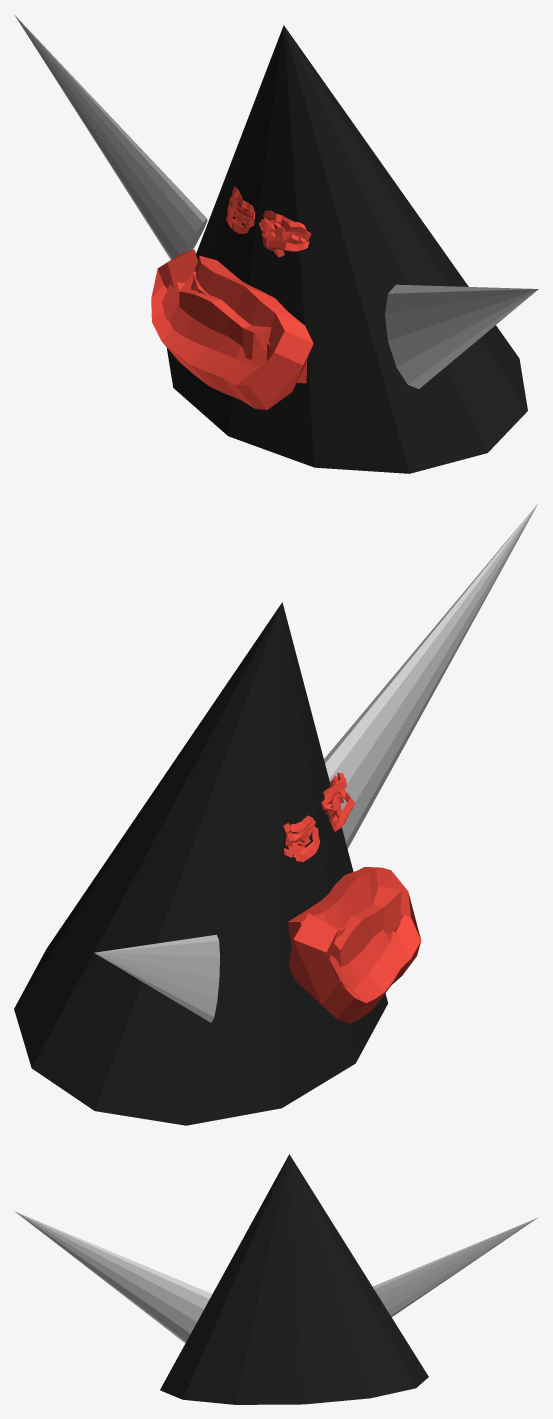
The model's file is Avatar_Riley.fbx.
The picture shows the model from 3 angles, top to bottom: view 1: azimuth 30°, elevation 25°; view 2: azimuth 150°, elevation 25°; view 3: azimuth 270°, elevation 25°; orthographic projection. The views are drawn at different scales.
Visible parts, largest first — view 1: mesh_728477758, group_510248600, mesh_1478359302, mesh_1296522994, group_1962504130, group_1979913186; view 2: mesh_728477758, mesh_1478359302, group_510248600, mesh_1296522994, group_1962504130; view 3: mesh_728477758, mesh_1478359302, mesh_1296522994.
Boxes of the visible parts, x1,y1,x2,y2 form: mesh_728477758: (166,25,527,473); group_510248600: (151,249,313,409); mesh_1478359302: (385,284,538,388); mesh_1296522994: (15,15,207,259); group_1962504130: (162,271,306,383); group_1979913186: (263,210,311,240); mesh_728477758: (14,602,387,1125); mesh_1478359302: (324,503,538,848); group_510248600: (288,867,421,1023); mesh_1296522994: (94,934,219,1022); group_1962504130: (329,886,401,989); mesh_728477758: (160,1154,428,1404); mesh_1478359302: (15,1211,212,1343); mesh_1296522994: (373,1218,537,1316).
Size of the model in its own units: 67.35 by 86.75 by 183.
